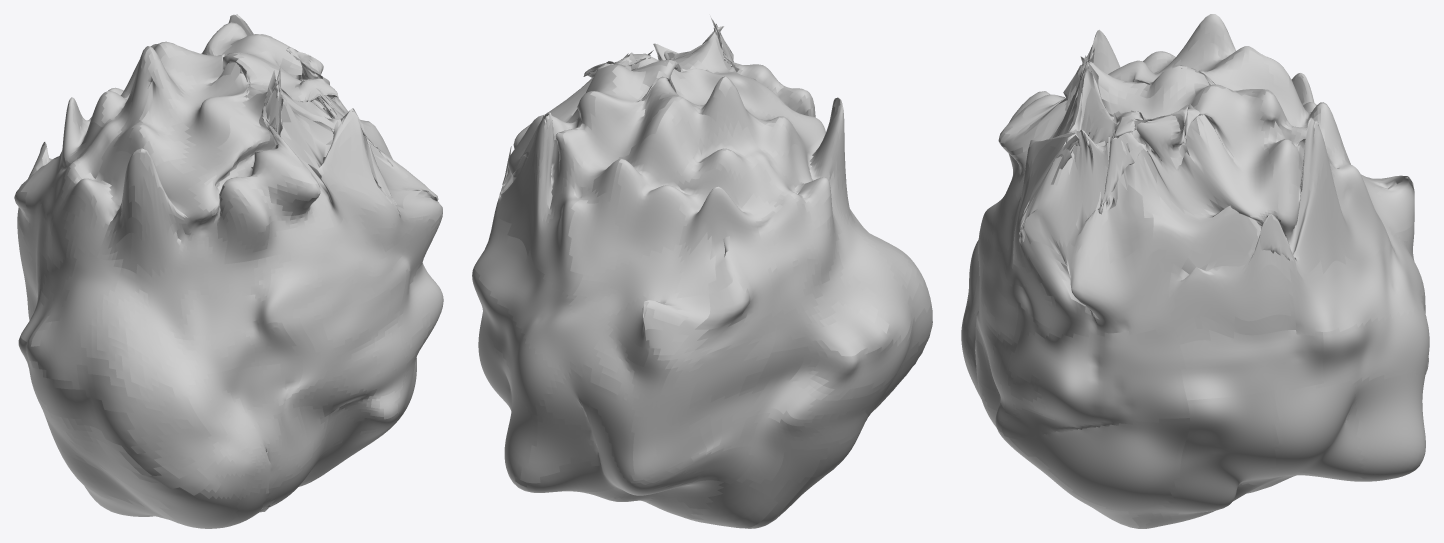
The model's file is island1WithDestruction 1.fbx.
3 renders of one model, left to right at view 1: azimuth 30°, elevation 25°; view 2: azimuth 150°, elevation 25°; view 3: azimuth 270°, elevation 25°, orthographic. The views are drawn at different scales.
Parts seen in each view (by area): view 1: Quad Sphere.054, Quad Sphere.037, Quad Sphere.010, Quad Sphere.005, Quad Sphere.033, Quad Sphere.053, Quad Sphere.055, Quad Sphere.019, Quad Sphere.022, Quad Sphere.032, Quad Sphere.060, Quad Sphere.020 (+39 smaller); view 2: Quad Sphere.030, Quad Sphere.011, Quad Sphere.029, Quad Sphere.025, Quad Sphere.015, Quad Sphere.039, Quad Sphere.010, Quad Sphere.009, Quad Sphere.019, Quad Sphere.024, Quad Sphere.013, Quad Sphere.052 (+27 smaller); view 3: Quad Sphere.007, Quad Sphere.003, Quad Sphere.005, Quad Sphere.004, Quad Sphere.002, Quad Sphere.009, Quad Sphere.018, Quad Sphere.011, Quad Sphere.014, Quad Sphere.017, Quad Sphere.016, Quad Sphere.015 (+30 smaller).
Boxes of the visible parts, bbox=[...] form: Quad Sphere.054: bbox=[27, 154, 336, 461]; Quad Sphere.037: bbox=[54, 317, 292, 528]; Quad Sphere.010: bbox=[36, 98, 371, 339]; Quad Sphere.005: bbox=[181, 97, 428, 340]; Quad Sphere.033: bbox=[128, 68, 264, 276]; Quad Sphere.053: bbox=[14, 142, 435, 366]; Quad Sphere.055: bbox=[69, 40, 396, 230]; Quad Sphere.019: bbox=[20, 199, 121, 389]; Quad Sphere.022: bbox=[264, 132, 441, 483]; Quad Sphere.032: bbox=[63, 152, 301, 285]; Quad Sphere.060: bbox=[217, 83, 316, 488]; Quad Sphere.020: bbox=[81, 253, 204, 387]; Quad Sphere.030: bbox=[646, 166, 784, 519]; Quad Sphere.011: bbox=[474, 212, 811, 385]; Quad Sphere.029: bbox=[614, 77, 803, 520]; Quad Sphere.025: bbox=[515, 244, 698, 502]; Quad Sphere.015: bbox=[472, 267, 805, 483]; Quad Sphere.039: bbox=[509, 364, 635, 483]; Quad Sphere.010: bbox=[500, 104, 868, 314]; Quad Sphere.009: bbox=[494, 143, 811, 348]; Quad Sphere.019: bbox=[504, 167, 912, 356]; Quad Sphere.024: bbox=[517, 78, 696, 501]; Quad Sphere.013: bbox=[753, 298, 932, 419]; Quad Sphere.052: bbox=[535, 75, 622, 276]; Quad Sphere.007: bbox=[1000, 14, 1278, 217]; Quad Sphere.003: bbox=[1000, 329, 1189, 439]; Quad Sphere.005: bbox=[980, 129, 1153, 276]; Quad Sphere.004: bbox=[963, 234, 1174, 344]; Quad Sphere.002: bbox=[1009, 418, 1189, 527]; Quad Sphere.009: bbox=[1272, 145, 1414, 282]; Quad Sphere.018: bbox=[1109, 390, 1286, 528]; Quad Sphere.011: bbox=[1289, 207, 1424, 335]; Quad Sphere.014: bbox=[1179, 330, 1323, 400]; Quad Sphere.017: bbox=[1268, 380, 1374, 481]; Quad Sphere.016: bbox=[1354, 370, 1425, 481]; Quad Sphere.015: bbox=[1315, 306, 1429, 388].
Size of the model in its own units: 303 by 349 by 308.
1 material, 1 textured.
